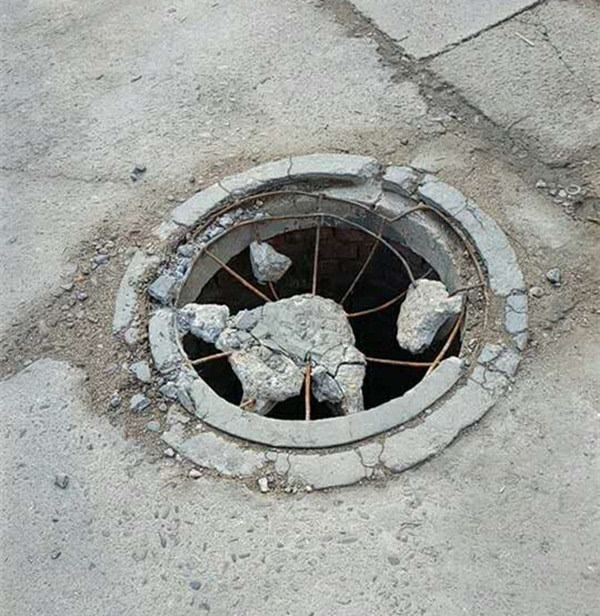broke: (121, 165, 529, 490)
